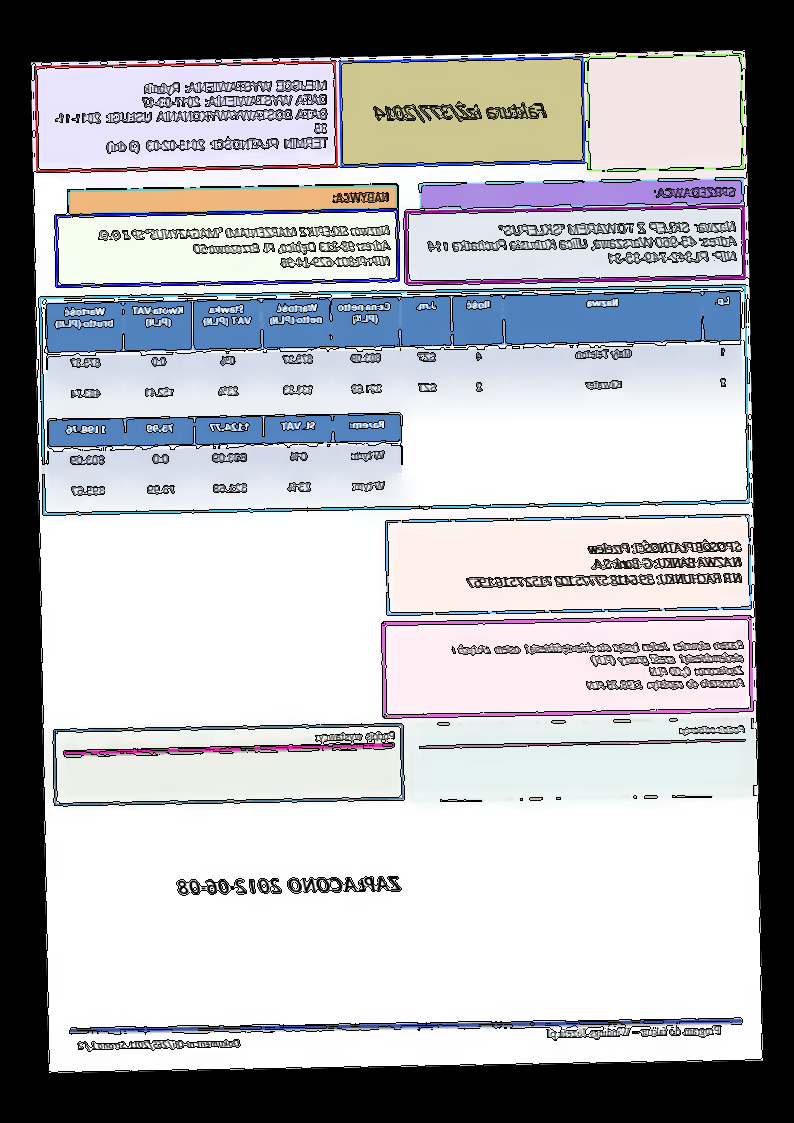Table: (44, 288, 744, 417), (45, 411, 406, 511)
TextBox: (51, 75, 330, 158), (446, 637, 746, 695), (426, 218, 739, 272), (95, 221, 393, 275), (464, 536, 745, 593), (177, 872, 403, 899), (370, 98, 551, 126), (546, 1020, 723, 1043), (75, 1034, 243, 1054), (652, 182, 740, 200), (314, 728, 398, 745), (678, 720, 748, 738), (332, 187, 393, 207)
